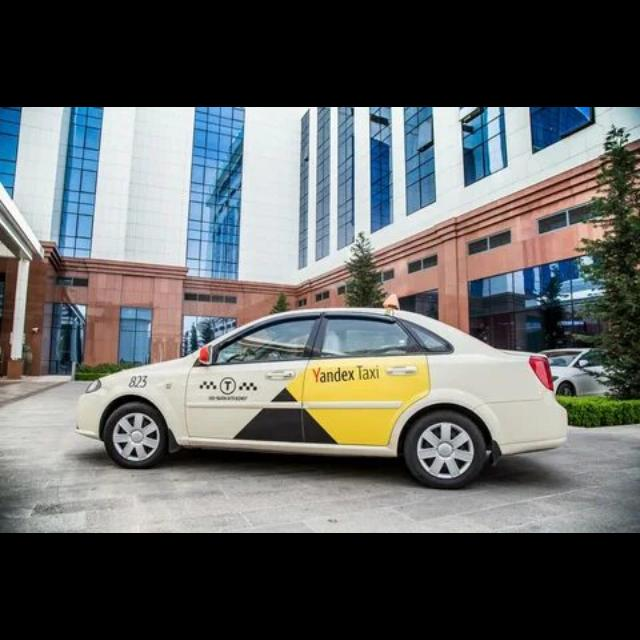taxi: (75, 303, 569, 491)
